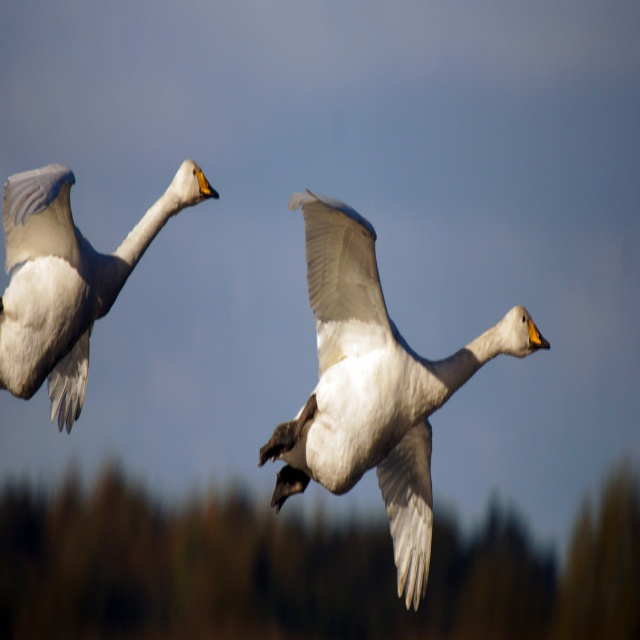Goose: (257, 190, 548, 608), (0, 156, 218, 438)
